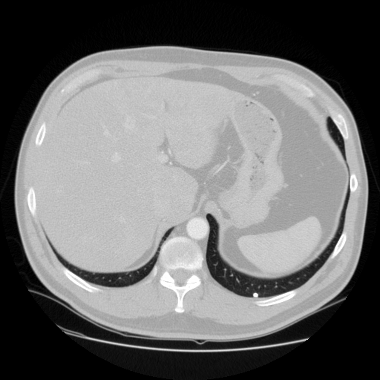nodule: (253, 293, 257, 297)
